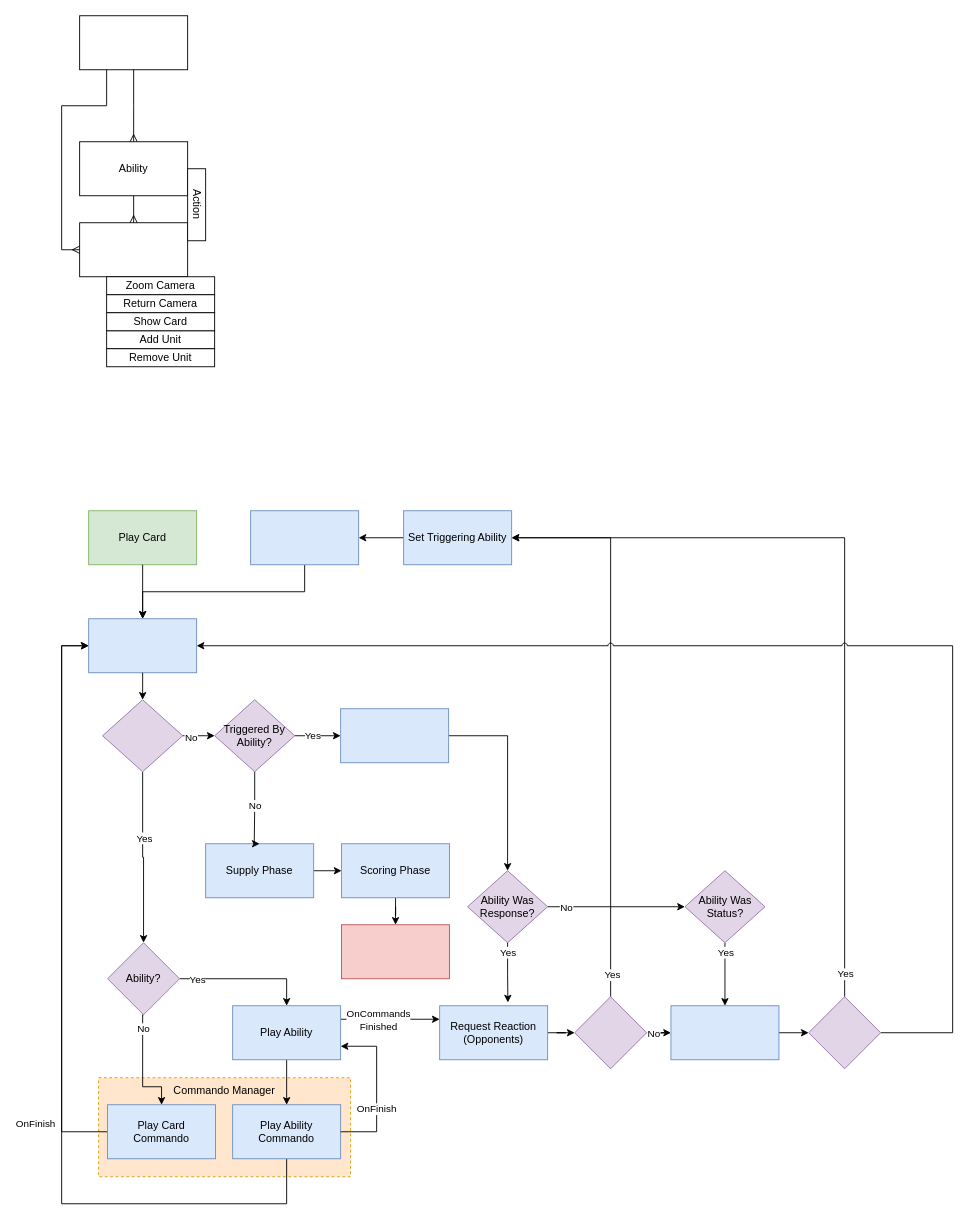
Some shapes in this 976 by 1227 pixel diagram are drawn without their labels. Each missing label, with the centre of its shape:
"Card" belongs at (133,42).
"Command" belongs at (133,249).
"End Turn" belongs at (395,951).
"Finish Triggering Card" belongs at (394,735).
"Has Next Action?" belongs at (142,735).
"Play Card Effect" belongs at (304,537).
"Play Next Action" belongs at (142,645).
"Reaction Played?" belongs at (610,1032).
"Request Status (Current Player)" belongs at (724,1032).
"Status Played?" belongs at (844,1032).
